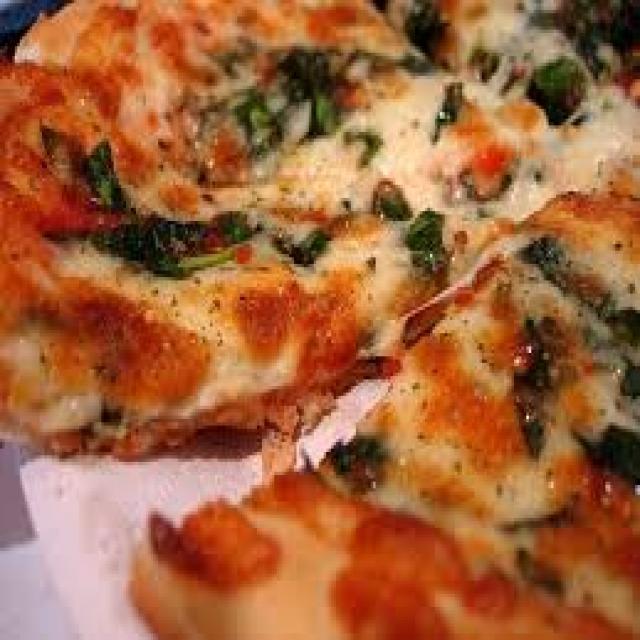organic waste: (0, 0, 638, 449), (126, 162, 638, 636)
